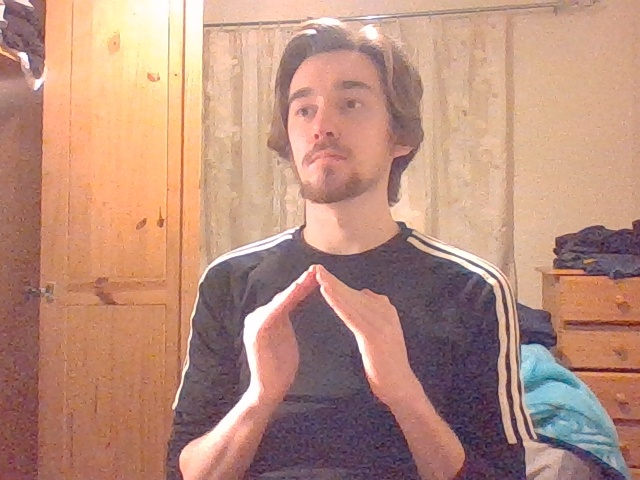home: (241, 264, 403, 349)
